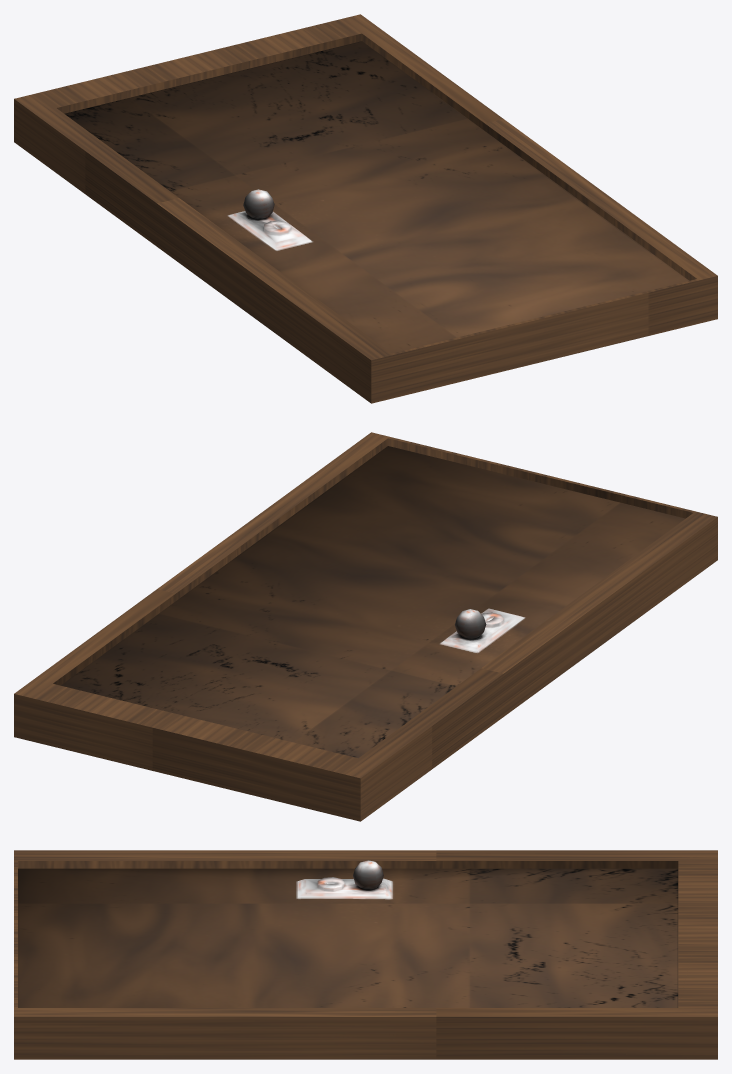
The model's file is Cabin Door.fbx.
The picture shows the model from 3 angles, top to bottom: view 1: azimuth 30°, elevation 25°; view 2: azimuth 150°, elevation 25°; view 3: azimuth 270°, elevation 25°; orthographic projection.
Parts seen in each view (by area): view 1: Door, Doorframe; view 2: Door, Doorframe; view 3: Door, Doorframe.
Boxes of the visible parts, left/top/right/bottom form: Door: left=64, top=41, right=688, bottom=353; Doorframe: left=14, top=14, right=717, bottom=403; Door: left=61, top=446, right=685, bottom=758; Doorframe: left=14, top=432, right=717, bottom=821; Door: left=18, top=860, right=678, bottom=1007; Doorframe: left=14, top=850, right=717, bottom=1059.
Bounding box in the file's own units: 144 × 34.05 × 258.
